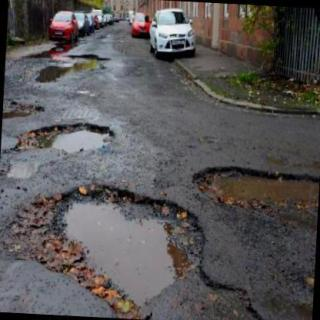pothole: (52, 185, 203, 307), (193, 167, 319, 210), (15, 123, 115, 153)
